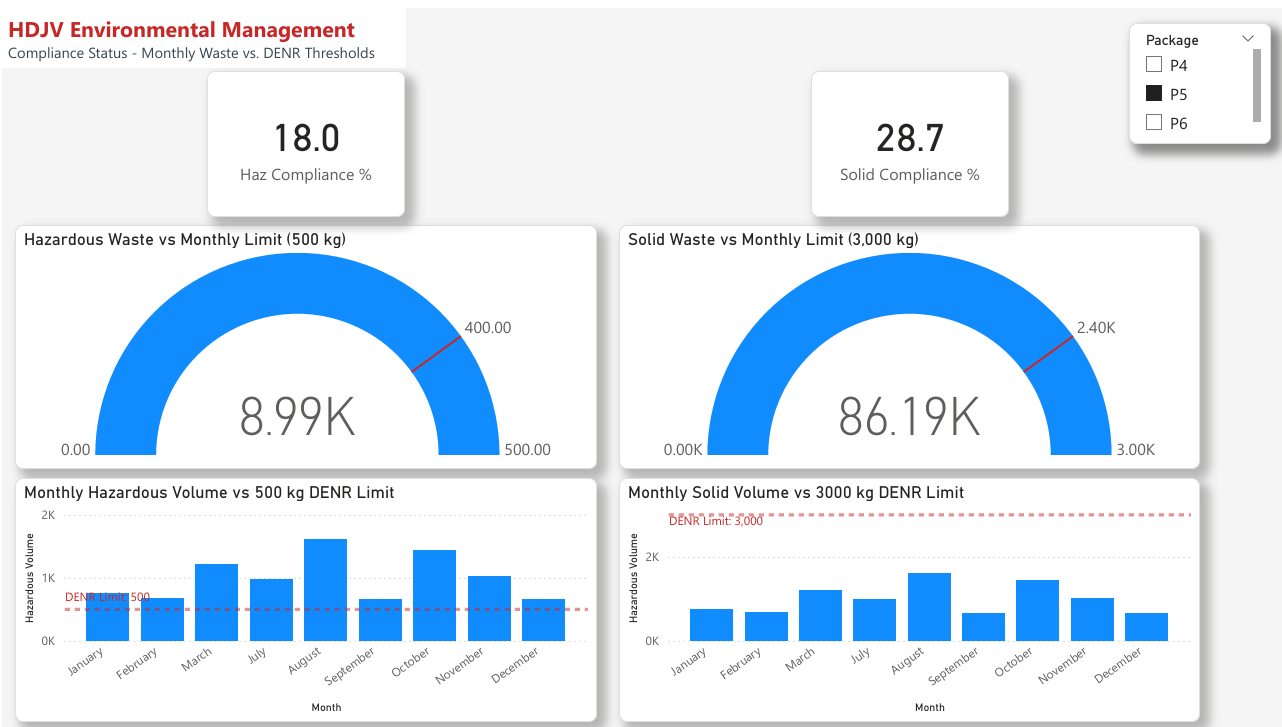

This screenshot's page, from the dashboard's own definition file:
{"tool":"powerbi","page":{"name":"Compliance Status","canvas":[1280,720],"ordinal":1},"visuals":[{"type":"textbox","box":[0,0,403.6,60.3],"z":0},{"type":"gauge","title":"Hazardous Waste vs Monthly Limit (500 kg)","fields":{"Y":["WasteLog.Hazardous Volume"]},"box":[12.2,216.2,581.4,243.8],"z":1000},{"type":"gauge","title":"Solid Waste vs Monthly Limit (3,000 kg)","fields":{"Y":["WasteLog.Solid Volume"]},"box":[616,216.2,581.4,243.8],"z":2000},{"type":"clusteredColumnChart","title":"Monthly Hazardous Volume vs 500 kg DENR Limit","fields":{"Category":["WasteLog.Date.Variation.Date Hierarchy.Year","WasteLog.Date.Variation.Date Hierarchy.Quarter","WasteLog.Date.Variation.Date Hierarchy.Month","WasteLog.Date.Variation.Date Hierarchy.Day"],"Y":["WasteLog.Hazardous Volume"]},"box":[12.2,469.2,581.4,243.8],"z":3000},{"type":"clusteredColumnChart","title":"Monthly Solid Volume vs 3000 kg DENR Limit","fields":{"Category":["WasteLog.Date.Variation.Date Hierarchy.Year","WasteLog.Date.Variation.Date Hierarchy.Quarter","WasteLog.Date.Variation.Date Hierarchy.Month","WasteLog.Date.Variation.Date Hierarchy.Day"],"Y":["WasteLog.Hazardous Volume"]},"box":[616,469.2,581.4,243.8],"z":4000},{"type":"card","fields":{"Values":["WasteLog.Haz Compliance %"]},"box":[204,62.2,197.9,145.8],"z":5000},{"type":"card","fields":{"Values":["WasteLog.Solid Compliance %"]},"box":[807.8,62.2,197.9,145.8],"z":6000},{"type":"slicer","fields":{"Values":["WasteLog.Package"]},"box":[1126,14.3,141.8,120.4],"z":7000},{"type":"slicer","fields":{"Values":["WasteLog.Package"]},"box":[1126,14.3,141.8,120.4],"z":8000}]}

Visuals, with their boxes in screenshot pixels (x1, y1, x2, y2), scaled from the page's 1280x720 canvas onto the 1282x727 screenshot:
textbox: bbox=[0, 0, 404, 61]
"Hazardous Waste vs Monthly Limit (500 kg)" gauge: bbox=[12, 218, 595, 464]
"Solid Waste vs Monthly Limit (3,000 kg)" gauge: bbox=[617, 218, 1199, 464]
"Monthly Hazardous Volume vs 500 kg DENR Limit" clusteredColumnChart: bbox=[12, 474, 595, 720]
"Monthly Solid Volume vs 3000 kg DENR Limit" clusteredColumnChart: bbox=[617, 474, 1199, 720]
card - WasteLog.Haz Compliance %: bbox=[204, 63, 403, 210]
card - WasteLog.Solid Compliance %: bbox=[809, 63, 1007, 210]
slicer - WasteLog.Package: bbox=[1128, 14, 1270, 136]
slicer - WasteLog.Package: bbox=[1128, 14, 1270, 136]
